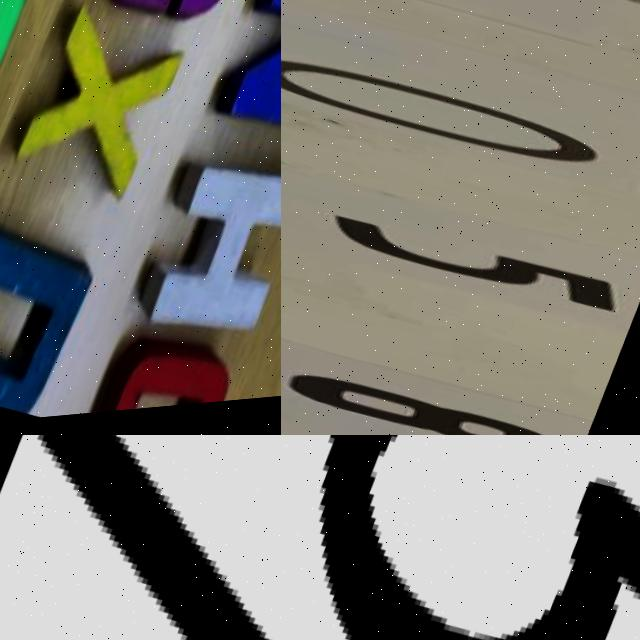0: (281, 13, 629, 218)
5: (281, 435, 640, 640), (308, 183, 640, 351)
8: (281, 343, 590, 435)
D: (0, 198, 119, 431)
G: (80, 0, 281, 58)
H: (121, 140, 281, 368)
N: (209, 0, 281, 163)
O: (89, 317, 260, 420)
X: (0, 0, 215, 240)
Z: (0, 435, 281, 640)
